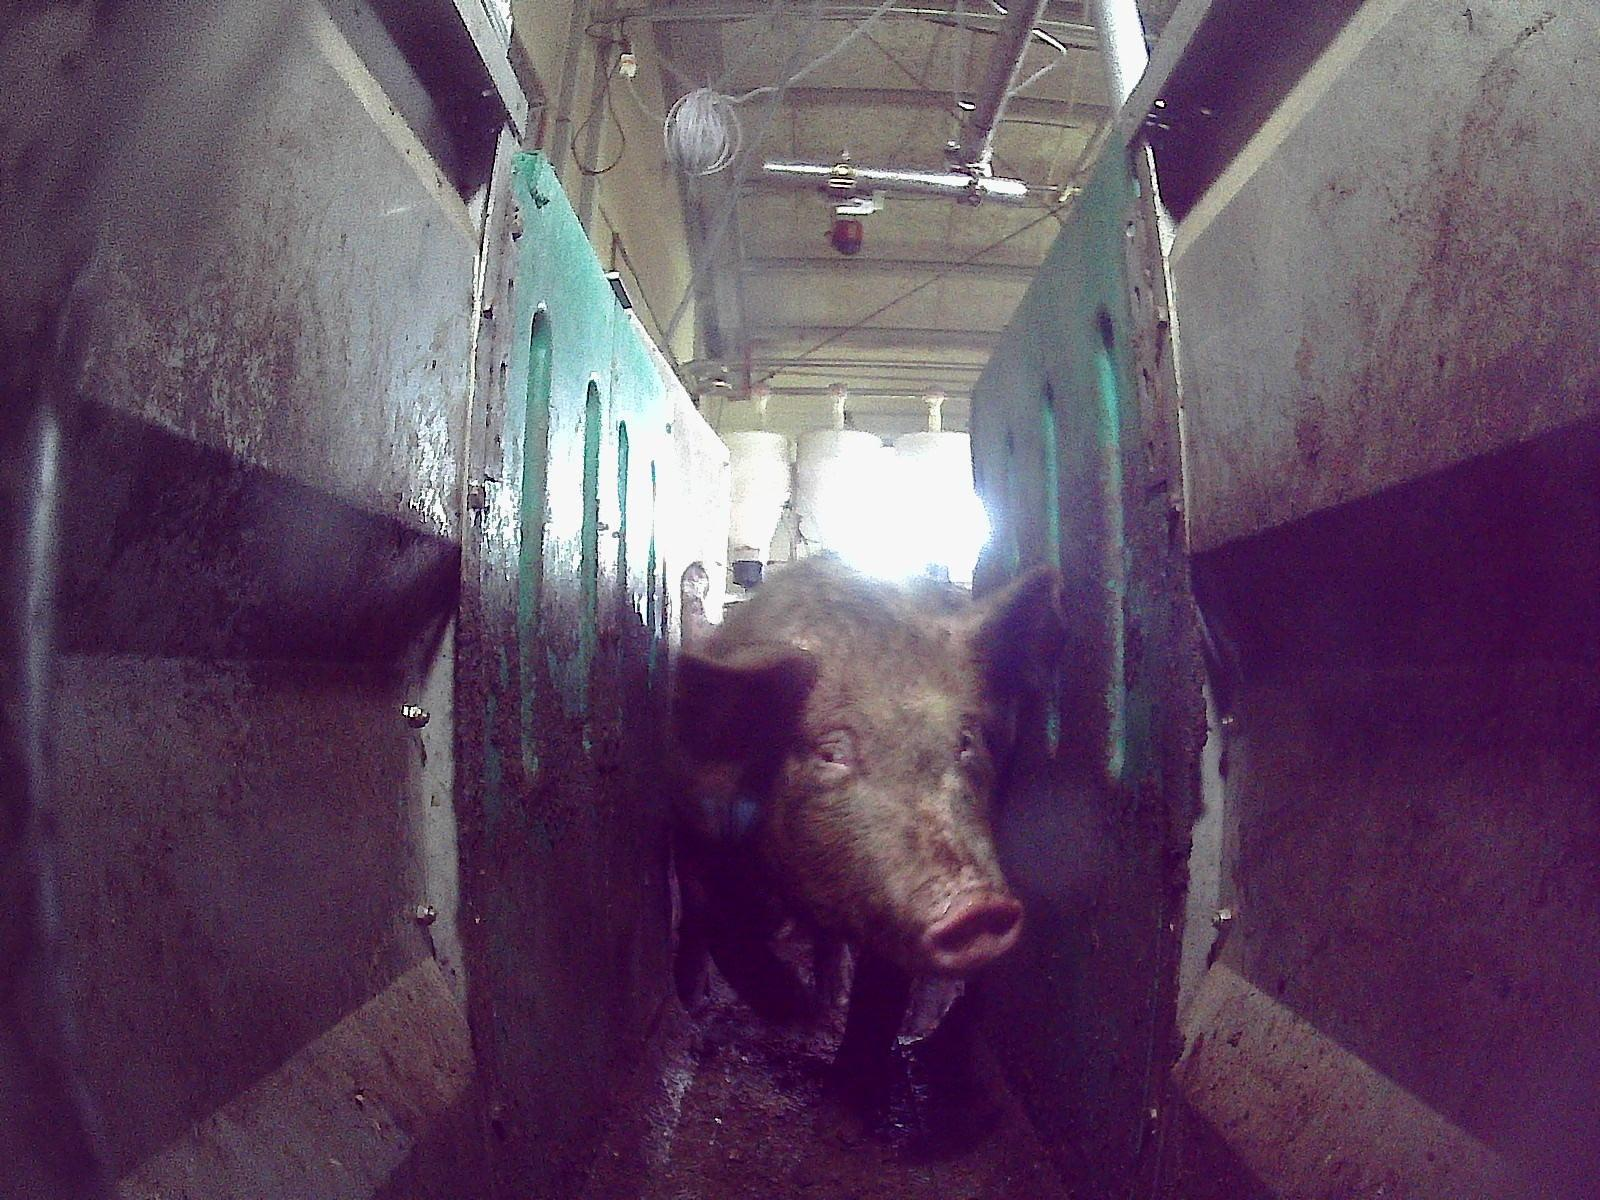Face: (757, 613, 1027, 981)
